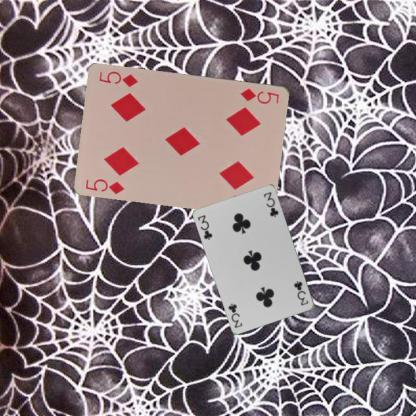3c: (195, 212, 214, 242), (291, 278, 310, 307)
5d: (238, 85, 281, 105), (83, 177, 126, 196)
